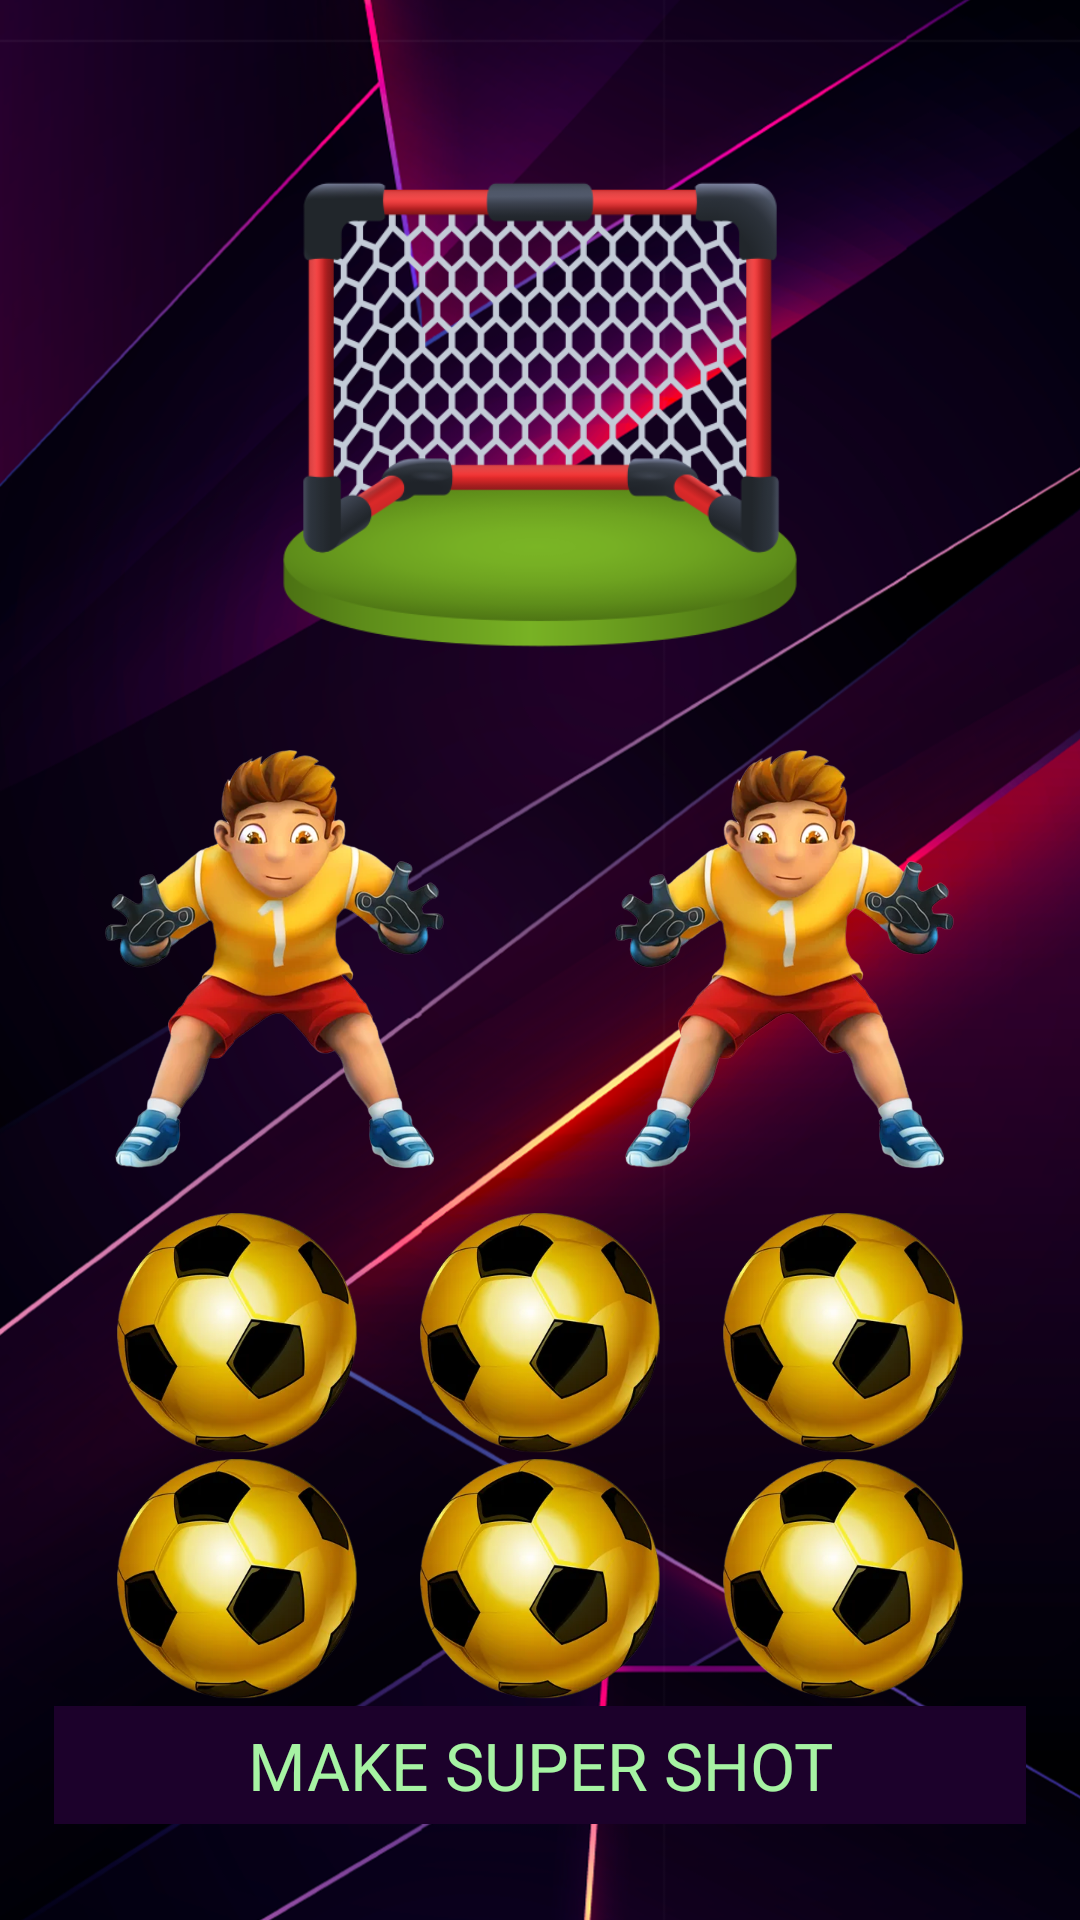

Where to tap for icons on this 1080w x 1920h app screen, as (x=x, y=y):
ball: (x=237, y=1332), (x=540, y=1333), (x=843, y=1332), (x=237, y=1578), (x=540, y=1579), (x=843, y=1579)
